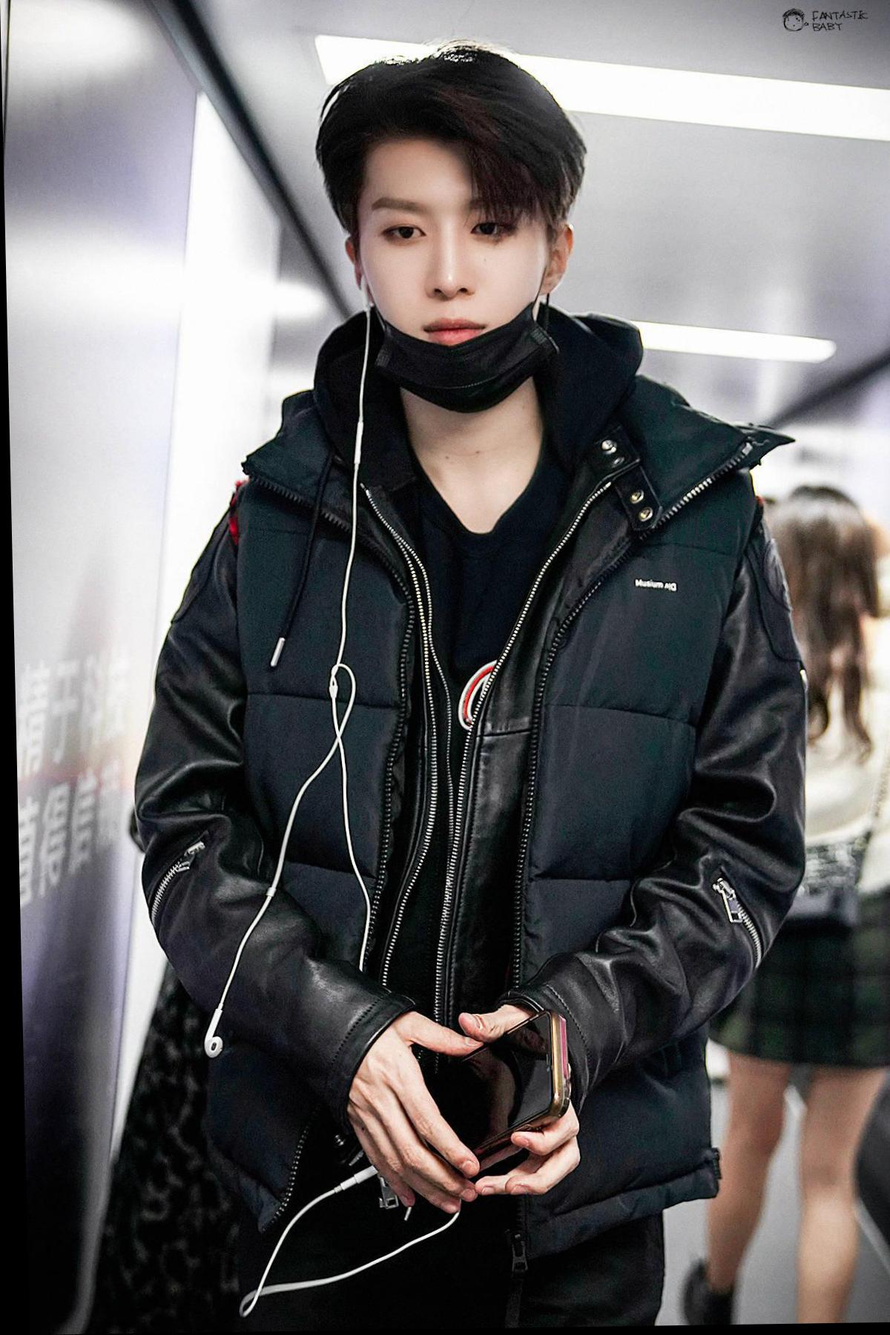WRONG: (359, 173, 545, 408)
